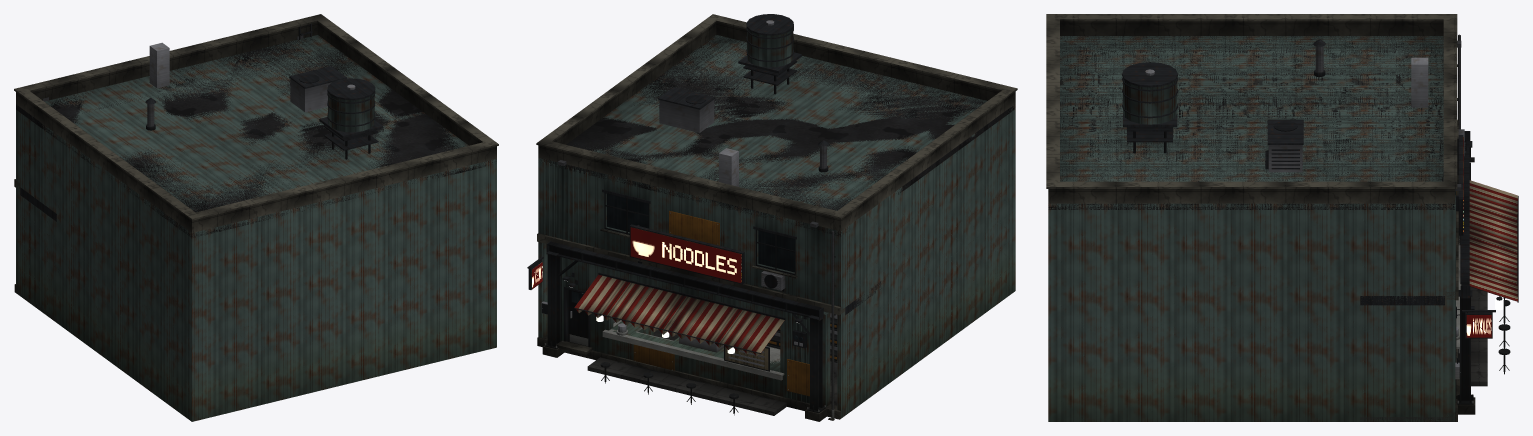
The model's file is redline_shop.glb.
3 renders of one model, left to right at view 1: azimuth 30°, elevation 25°; view 2: azimuth 150°, elevation 25°; view 3: azimuth 270°, elevation 25°, orthographic. The views are drawn at different scales.
Parts seen in each view (by area): view 1: redline_shop; view 2: redline_shop; view 3: redline_shop.
Boxes of the visible parts, x1,y1,x2,y2 form: redline_shop: (14, 14, 498, 421); redline_shop: (527, 14, 1017, 421); redline_shop: (1046, 14, 1518, 421).
Size of the model in its own units: 12.08 by 9.55 by 13.93.
